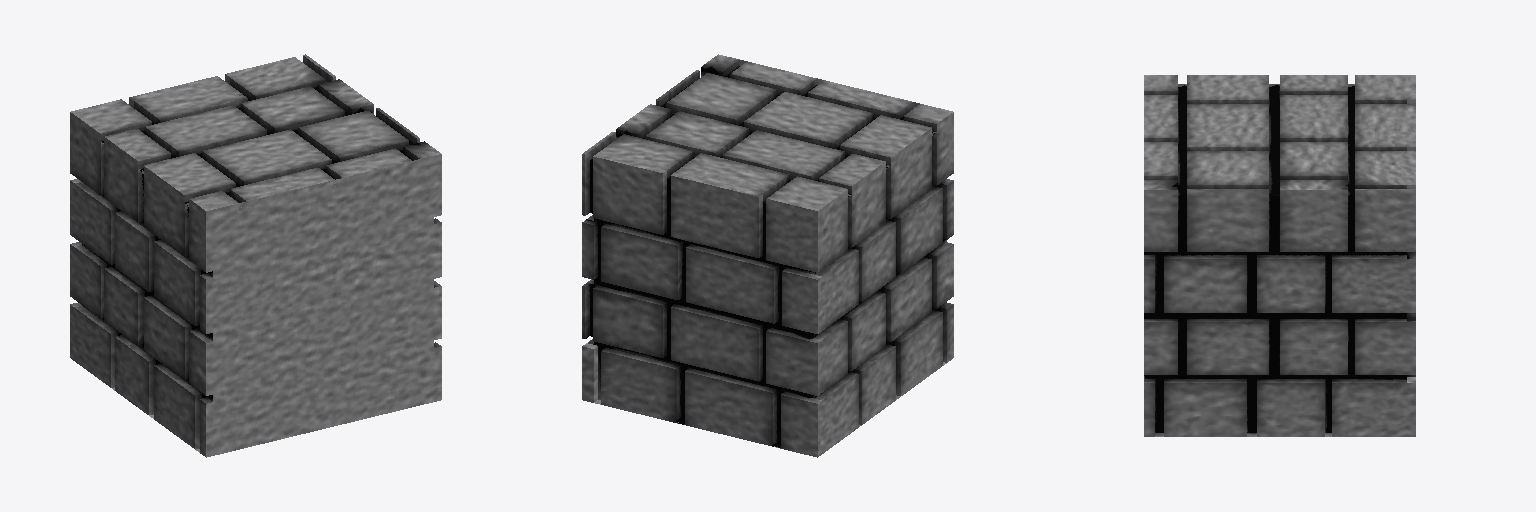
The picture shows the model from 3 angles: view 1: azimuth 30°, elevation 25°; view 2: azimuth 150°, elevation 25°; view 3: azimuth 270°, elevation 25°; orthographic projection.
Visible parts, largest first — view 1: Cube.001_Cube.002; view 2: Cube.001_Cube.002; view 3: Cube.001_Cube.002.
Boxes of the visible parts, <box> form: Cube.001_Cube.002: <box>70,54,441,457</box>; Cube.001_Cube.002: <box>582,54,953,457</box>; Cube.001_Cube.002: <box>1144,75,1415,436</box>.
Size of the model in its own units: 2 by 2 by 2.
1 materials, 1 textured.